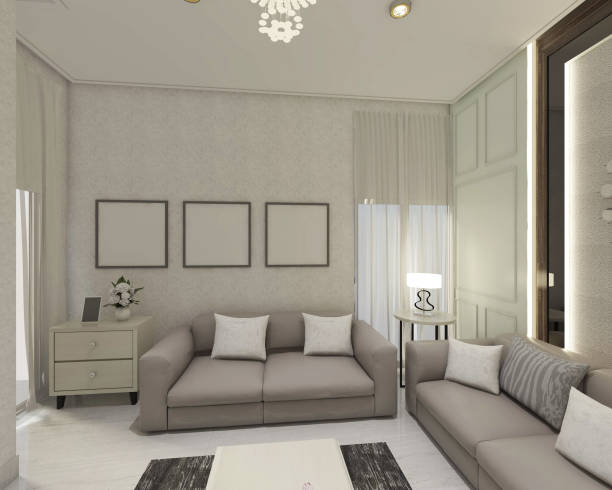flower vase: (102, 273, 142, 321)
side table: (393, 309, 458, 343)
sofa: (138, 306, 400, 435), (403, 332, 612, 490)
table lamp: (405, 270, 446, 316)
wall art: (91, 195, 172, 271), (180, 198, 255, 272), (262, 198, 331, 269)
